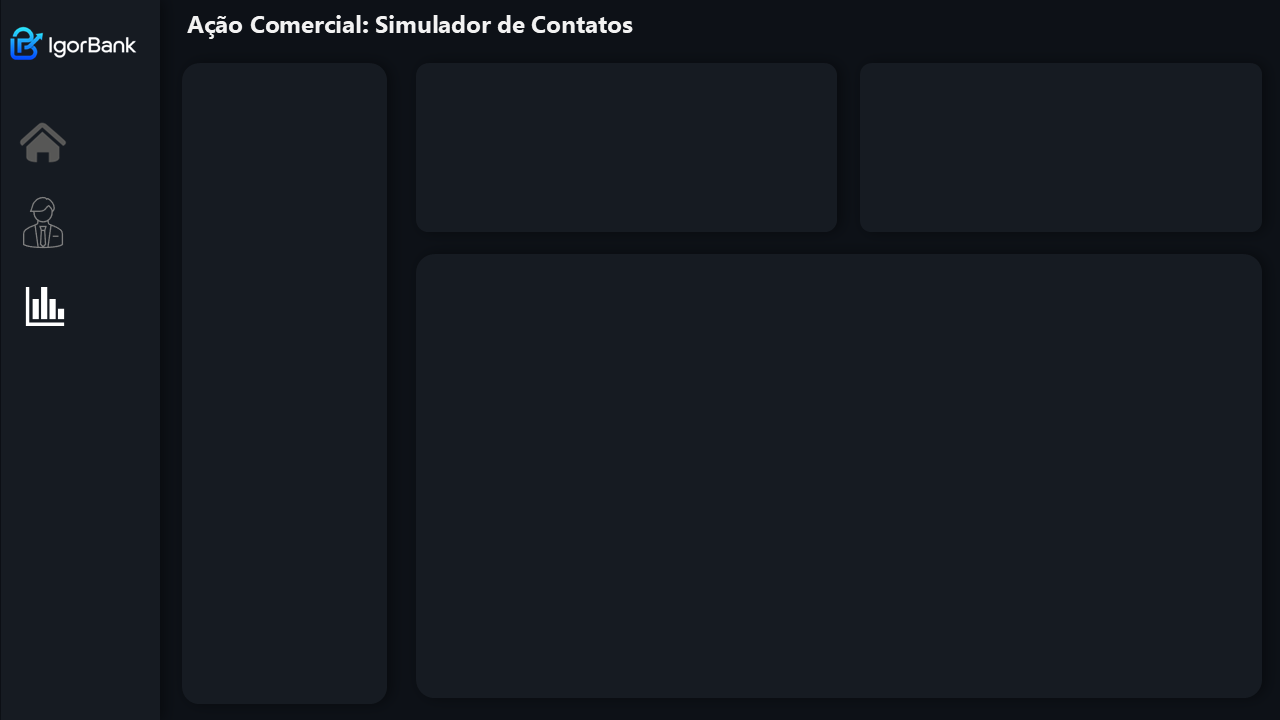

Layout of this report page (visuals, bound fields, positions):
{"tool":"powerbi","page":{"name":"Ação","canvas":[1280,720],"ordinal":2},"visuals":[{"type":"slicer","fields":{"Values":["Base_CrossSell_Bancario.Propensao_Emprestimo"]},"box":[184.6,70.2,195.6,619.9],"z":0},{"type":"card","title":"Total Clientes","fields":{"Values":["Base_CrossSell_Bancario.Total Clientes"]},"box":[436.4,79.2,381.2,137.4],"z":1},{"type":"card","title":"Renda Média","fields":{"Values":["Base_CrossSell_Bancario.Renda Média"]},"box":[868.7,79.2,386.2,137.4],"z":2},{"type":"tableEx","fields":{"Values":["Base_CrossSell_Bancario.ID_Cliente","Base_CrossSell_Bancario.Renda Média","Base_CrossSell_Bancario.Gasto Médio Cartão","Base_CrossSell_Bancario.Propensao_Emprestimo"]},"box":[427.7,263.9,826.9,412.6],"z":3},{"type":"actionButton","box":[9,106.3,72.2,69.2],"z":4},{"type":"actionButton","box":[9.2,185.4,71.8,63.5],"z":5},{"type":"actionButton","box":[9.2,263.9,71.8,70.2],"z":6}]}

Visuals, with their boxes on the page's 1280x720 design canvas (x1, y1, x2, y2). These are canvas units, not pixel positions in the 1280x720 screenshot, which may show the page scaled, cropped or inside an application window:
slicer - Base_CrossSell_Bancario.Propensao_Emprestimo: region(185, 70, 380, 690)
"Total Clientes" card: region(436, 79, 818, 217)
"Renda Média" card: region(869, 79, 1255, 217)
tableEx - Base_CrossSell_Bancario.ID_Cliente x Base_CrossSell_Bancario.Renda Média: region(428, 264, 1255, 676)
actionButton: region(9, 106, 81, 176)
actionButton: region(9, 185, 81, 249)
actionButton: region(9, 264, 81, 334)
